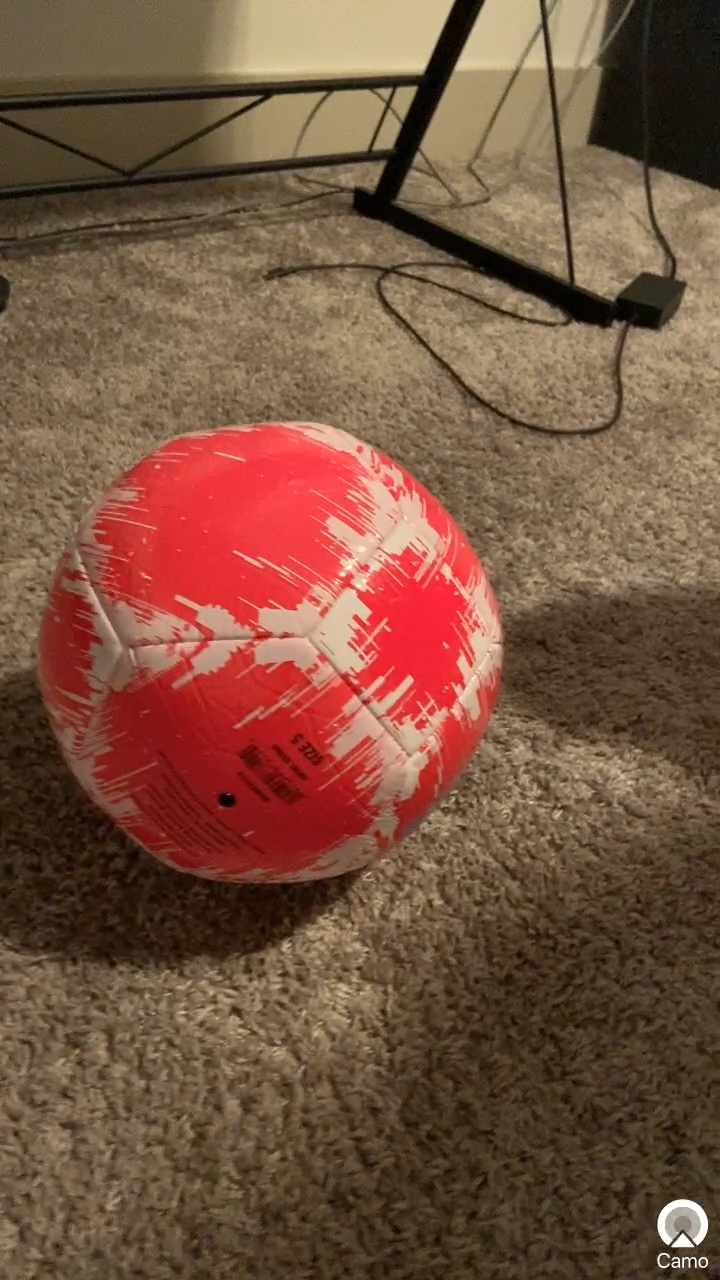Soccer_Ball: (31, 407, 498, 895)
